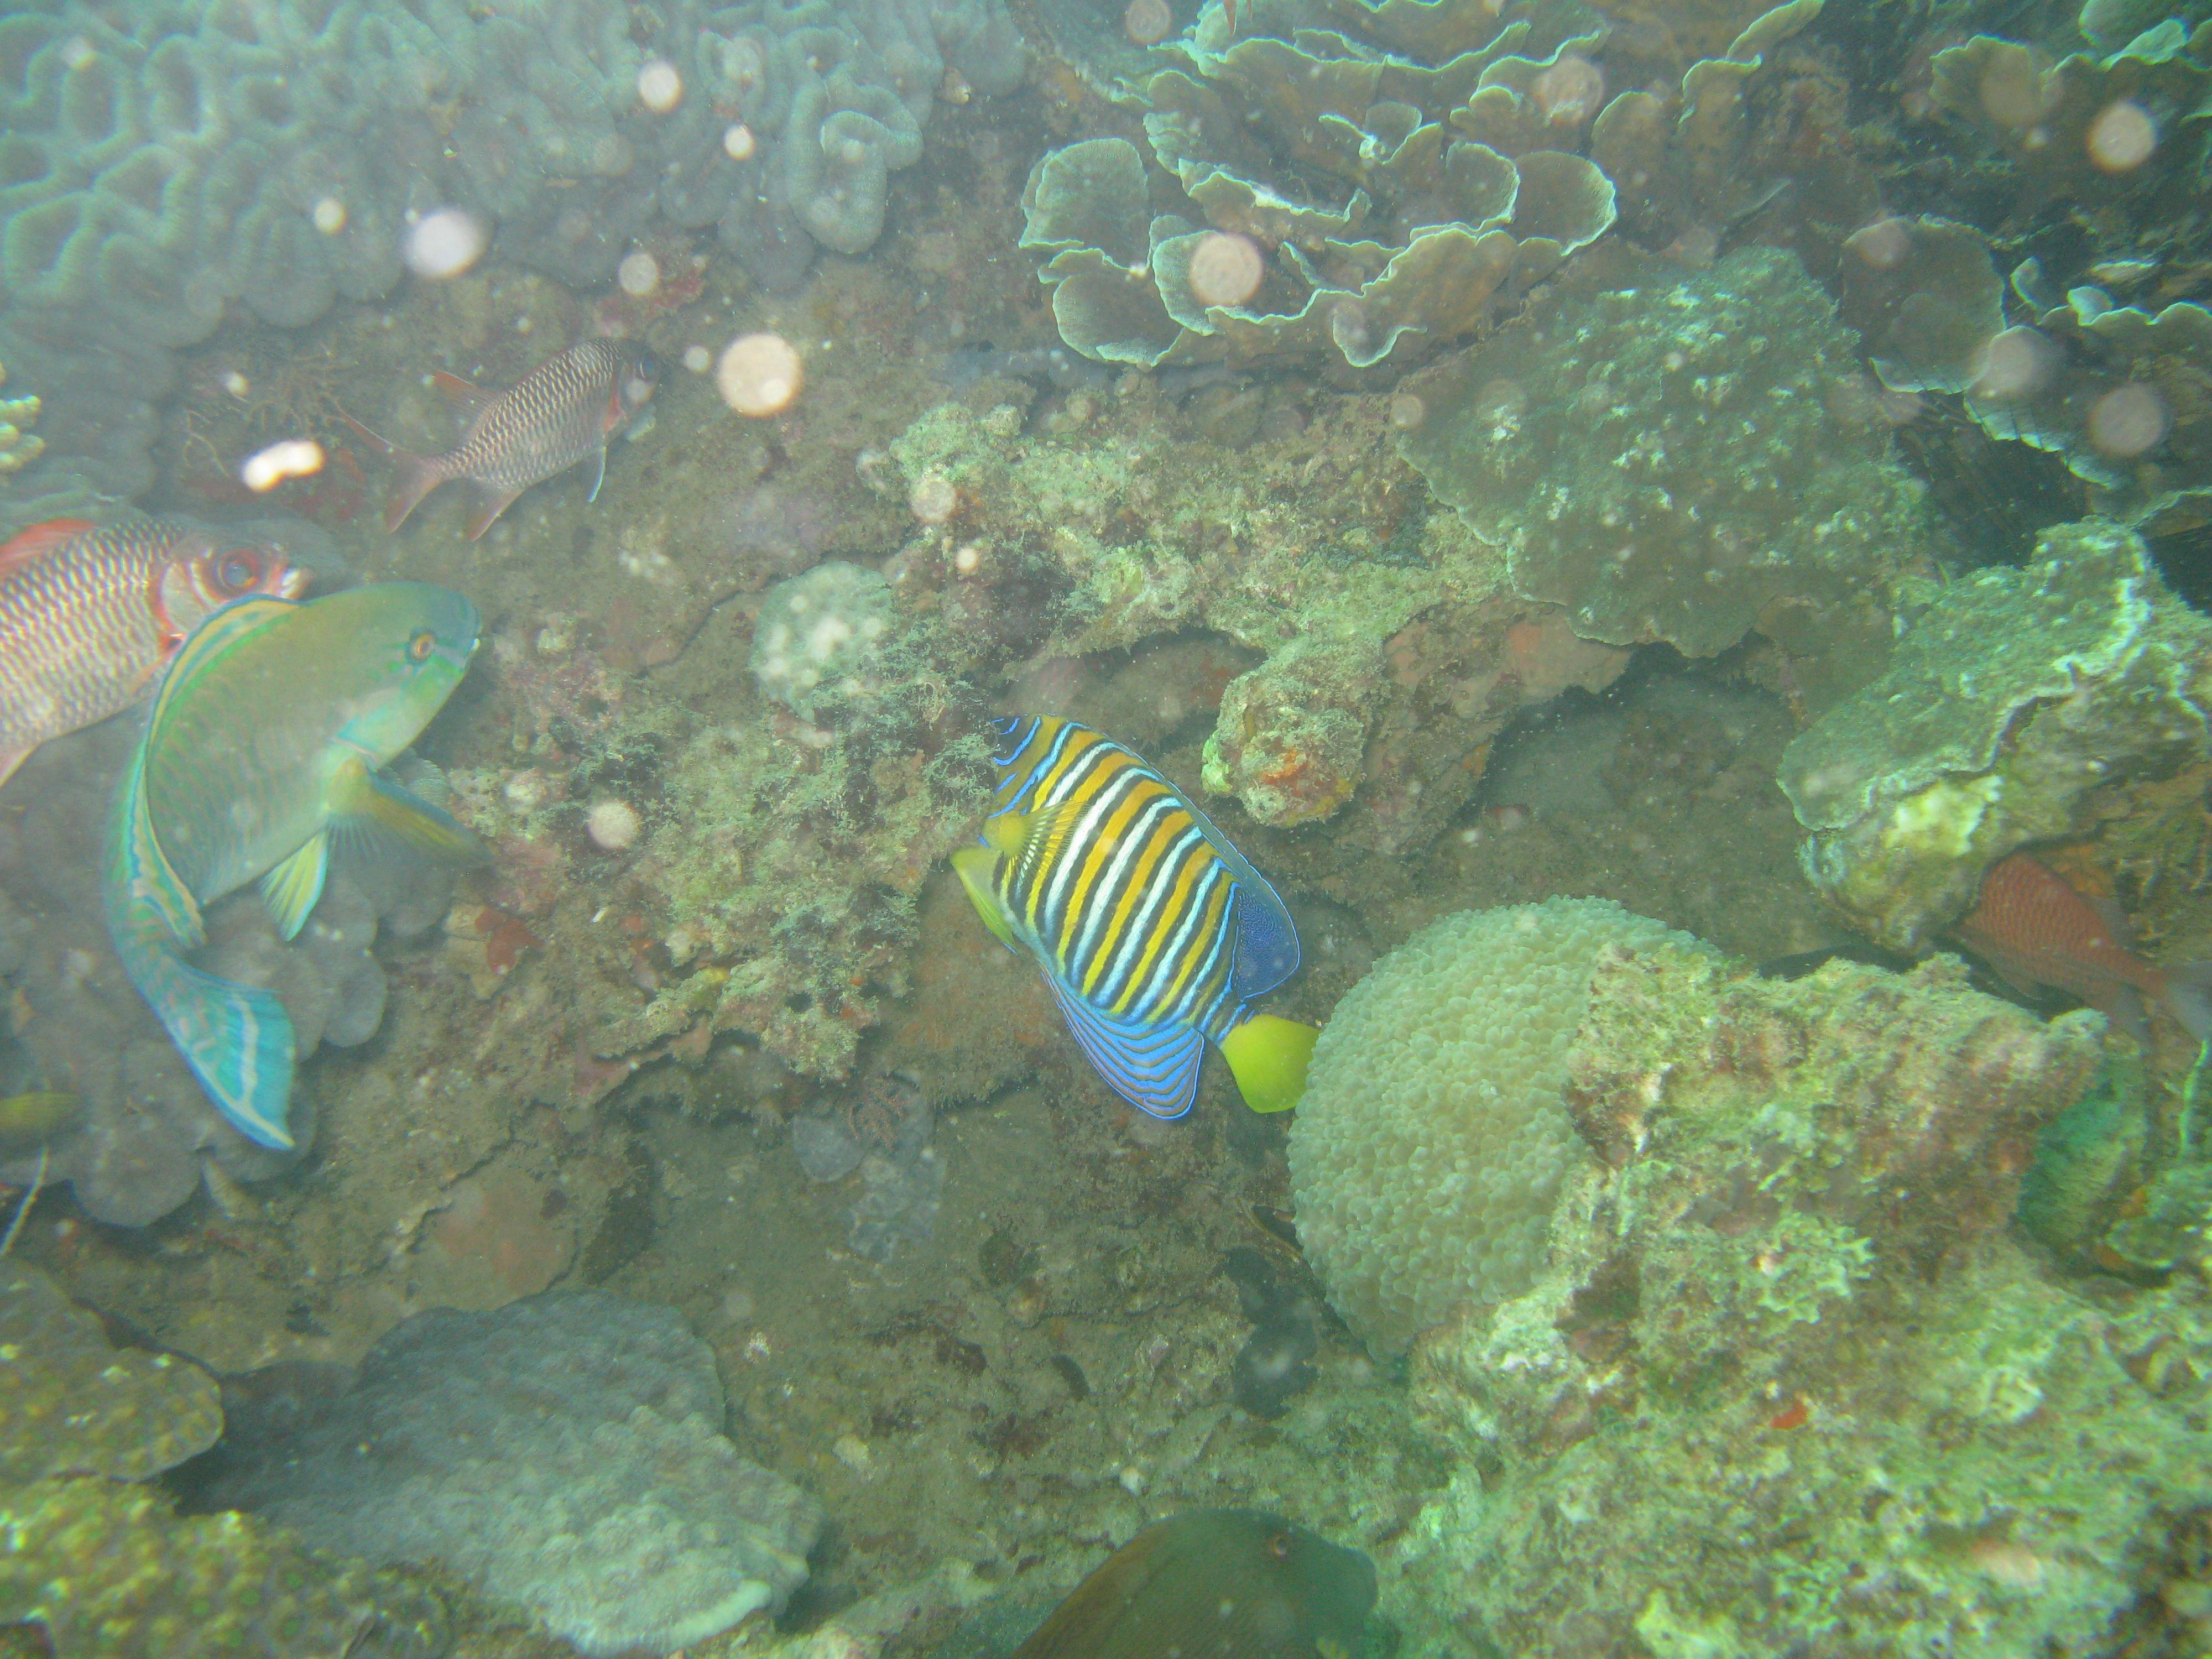Fish: (883, 631, 1364, 1183)
